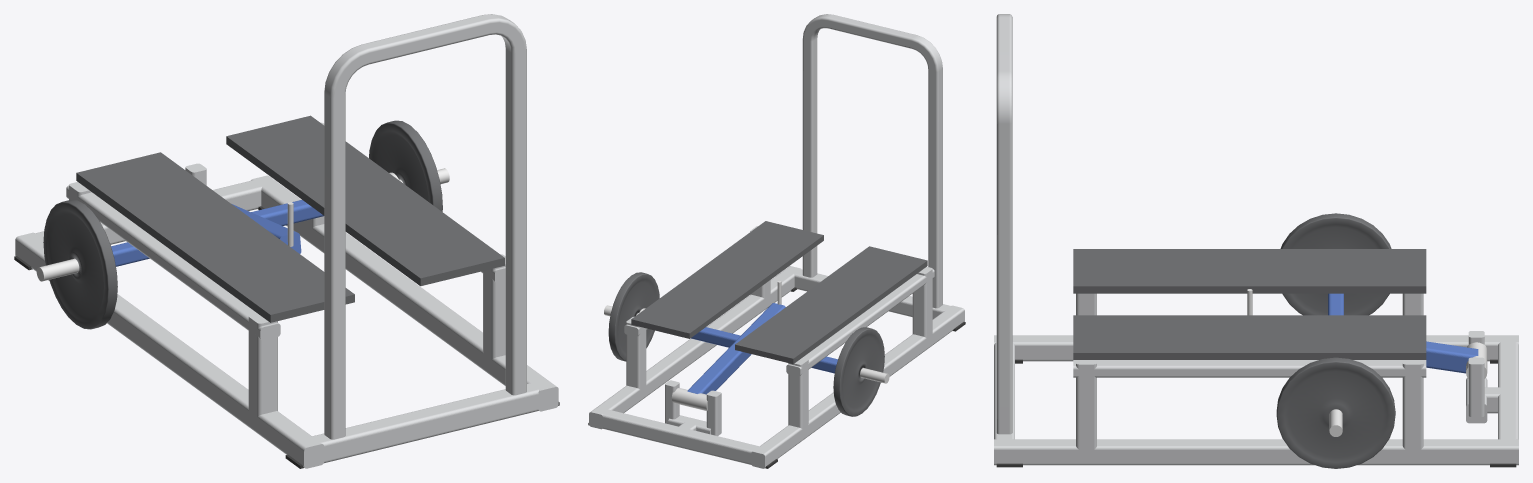
3 renders of one model, left to right at view 1: azimuth 30°, elevation 25°; view 2: azimuth 150°, elevation 25°; view 3: azimuth 270°, elevation 25°, orthographic. The views are drawn at different scales.
Visible parts, largest first — view 1: foot_plate (×2), base, handle_arch_tube, lever, platform, lever_crossbar, lever_bar, plate_horn; view 2: foot_plate (×2), base, handle_arch_tube, platform, lever, lever_bar, frame, lever_crossbar, lever_hub; view 3: foot_plate (×2), base, lever, platform, handle_arch_tube, frame, lever_bar.
Part boxes in pixels (box(x1,y1,x2,y2)): foot_plate (×2): box(76, 115, 504, 322); base: box(14, 175, 559, 468); handle_arch_tube: box(324, 14, 526, 439); lever: box(43, 120, 442, 329); platform: box(66, 122, 505, 416); lever_crossbar: box(111, 200, 323, 266); lever_bar: box(232, 204, 301, 253); plate_horn: box(36, 258, 79, 281); foot_plate (×2): box(631, 221, 927, 364); base: box(588, 266, 965, 468); handle_arch_tube: box(802, 14, 942, 308); platform: box(624, 226, 934, 433); lever: box(608, 272, 884, 416); lever_bar: box(687, 303, 785, 394); frame: box(665, 380, 721, 435); lever_crossbar: box(691, 327, 837, 373); lever_hub: box(671, 388, 707, 410); foot_plate (×2): box(1073, 249, 1426, 359); base: box(994, 335, 1518, 467); lever: box(1276, 213, 1395, 468); platform: box(1073, 293, 1426, 456); handle_arch_tube: box(996, 14, 1012, 434); frame: box(1466, 331, 1487, 423); lever_bar: box(1426, 341, 1478, 373).
Size of the model in its own units: 1.61 by 1.52 by 1.99.
